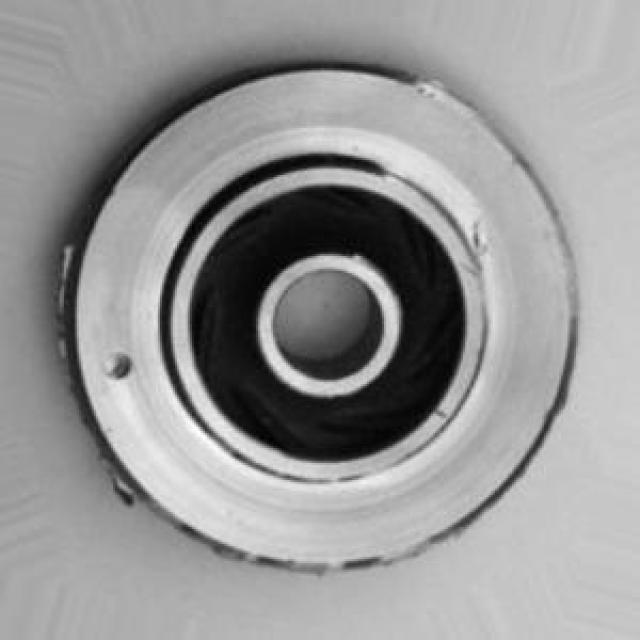Defect: (44, 234, 80, 356), (98, 348, 146, 381)
